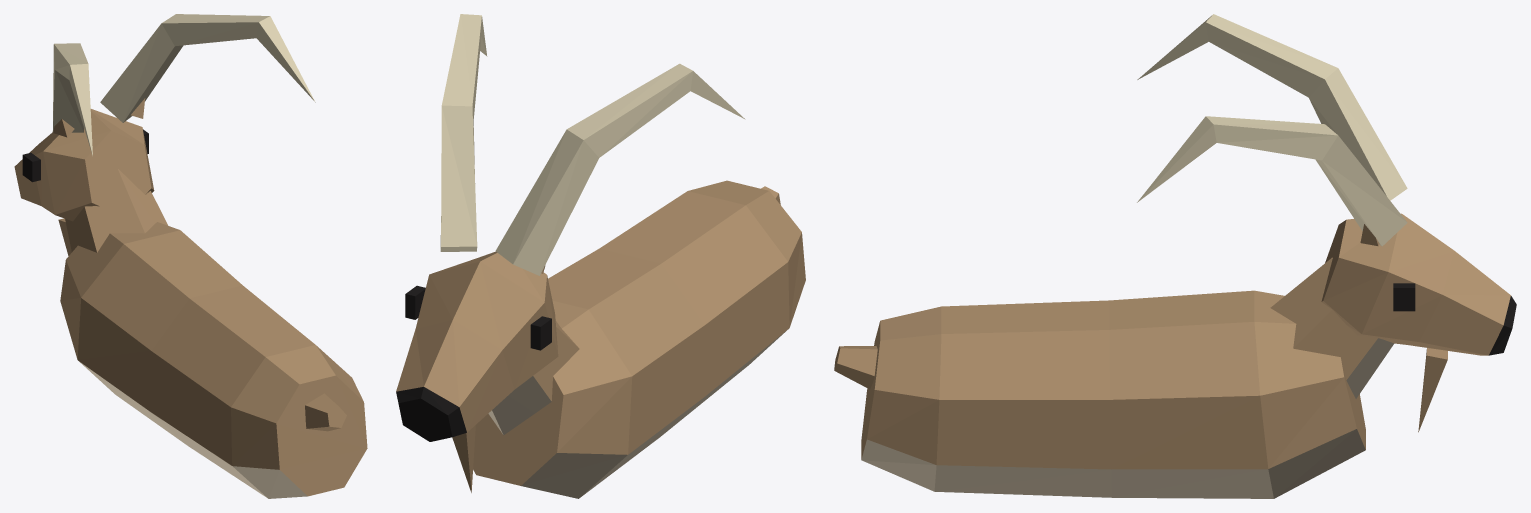
The model's file is animal_ibex.obj.
3 views of the same model, side by side, from view 1: azimuth 30°, elevation 25°; view 2: azimuth 150°, elevation 25°; view 3: azimuth 270°, elevation 25° (orthographic). The views are drawn at different scales.
Visible parts, largest first — view 1: animal_ibex; view 2: animal_ibex; view 3: animal_ibex.
Part boxes in pixels (x1,y1,x2,y2): animal_ibex: [14, 14, 367, 498]; animal_ibex: [396, 14, 805, 498]; animal_ibex: [834, 14, 1516, 498].
Bounding box in the file's own units: 0.5084 × 0.8 × 1.2.
